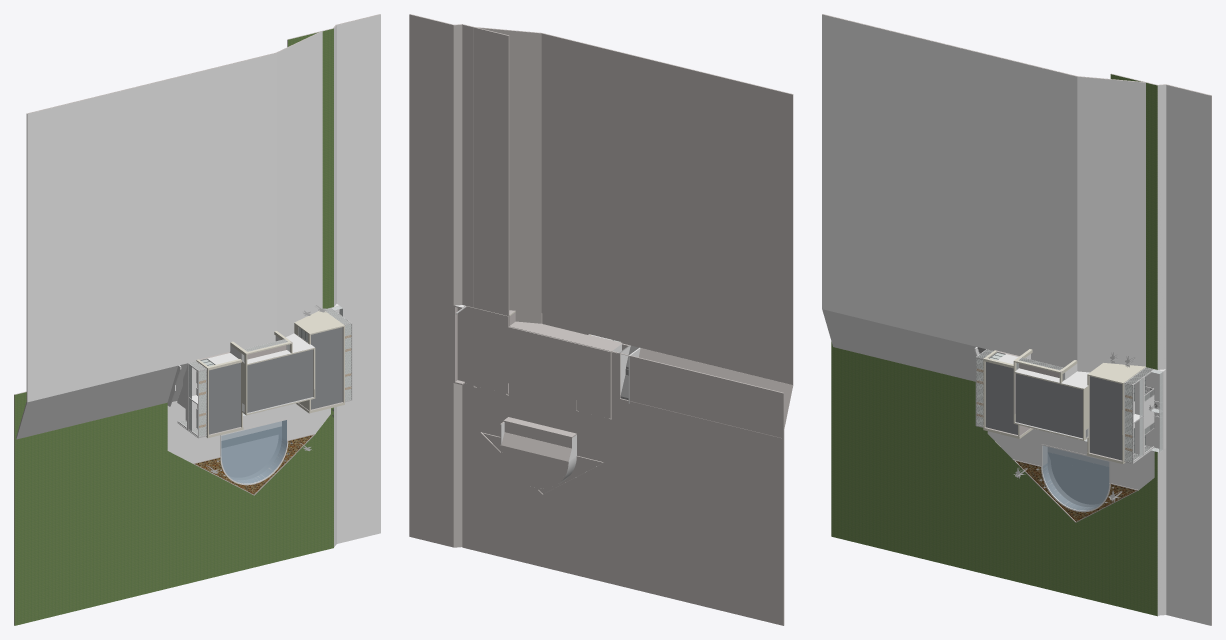
File: villa3.glb
3 renders of one model, left to right at view 1: azimuth 30°, elevation 25°; view 2: azimuth 150°, elevation 25°; view 3: azimuth 330°, elevation 25°, orthographic. The views are drawn at different scales.
Parts seen in each view (by area): view 1: Obj.10212:1, Obj.10237:1, Obj.10658:1, Obj.23264, Obj.10231, Obj.10237, Obj.10230:3, Obj.23493, Obj.23327:1; view 2: Obj.10237, Obj.10212:1; view 3: Obj.10212:1, Obj.10237:1, Obj.10658:1, Obj.23264, Obj.10231, Obj.10230:3, Obj.10237, Obj.23493, Obj.23327:1, Obj.24908:4.
Boxes of the visible parts, bbox=[...] form: Obj.10212:1: bbox=[16, 14, 380, 546]; Obj.10237:1: bbox=[14, 28, 333, 625]; Obj.10658:1: bbox=[209, 327, 342, 434]; Obj.23264: bbox=[221, 420, 286, 483]; Obj.10231: bbox=[196, 310, 344, 437]; Obj.10237: bbox=[14, 14, 380, 625]; Obj.10230:3: bbox=[177, 308, 352, 438]; Obj.23493: bbox=[181, 308, 351, 436]; Obj.23327:1: bbox=[195, 435, 312, 494]; Obj.10237: bbox=[409, 14, 793, 625]; Obj.10212:1: bbox=[455, 305, 640, 444]; Obj.10212:1: bbox=[822, 14, 1211, 625]; Obj.10237:1: bbox=[831, 74, 1157, 616]; Obj.10658:1: bbox=[985, 362, 1122, 460]; Obj.23264: bbox=[1042, 446, 1109, 510]; Obj.10231: bbox=[983, 349, 1145, 463]; Obj.10230:3: bbox=[975, 349, 1154, 463]; Obj.10237: bbox=[822, 14, 1211, 625]; Obj.23493: bbox=[976, 350, 1153, 462]; Obj.23327:1: bbox=[1016, 461, 1136, 521]; Obj.24908:4: bbox=[1084, 369, 1162, 456].
Size of the model in its own units: 65.19 by 87.71 by 11.43.
Materials: 36 (9 with a texture image).
